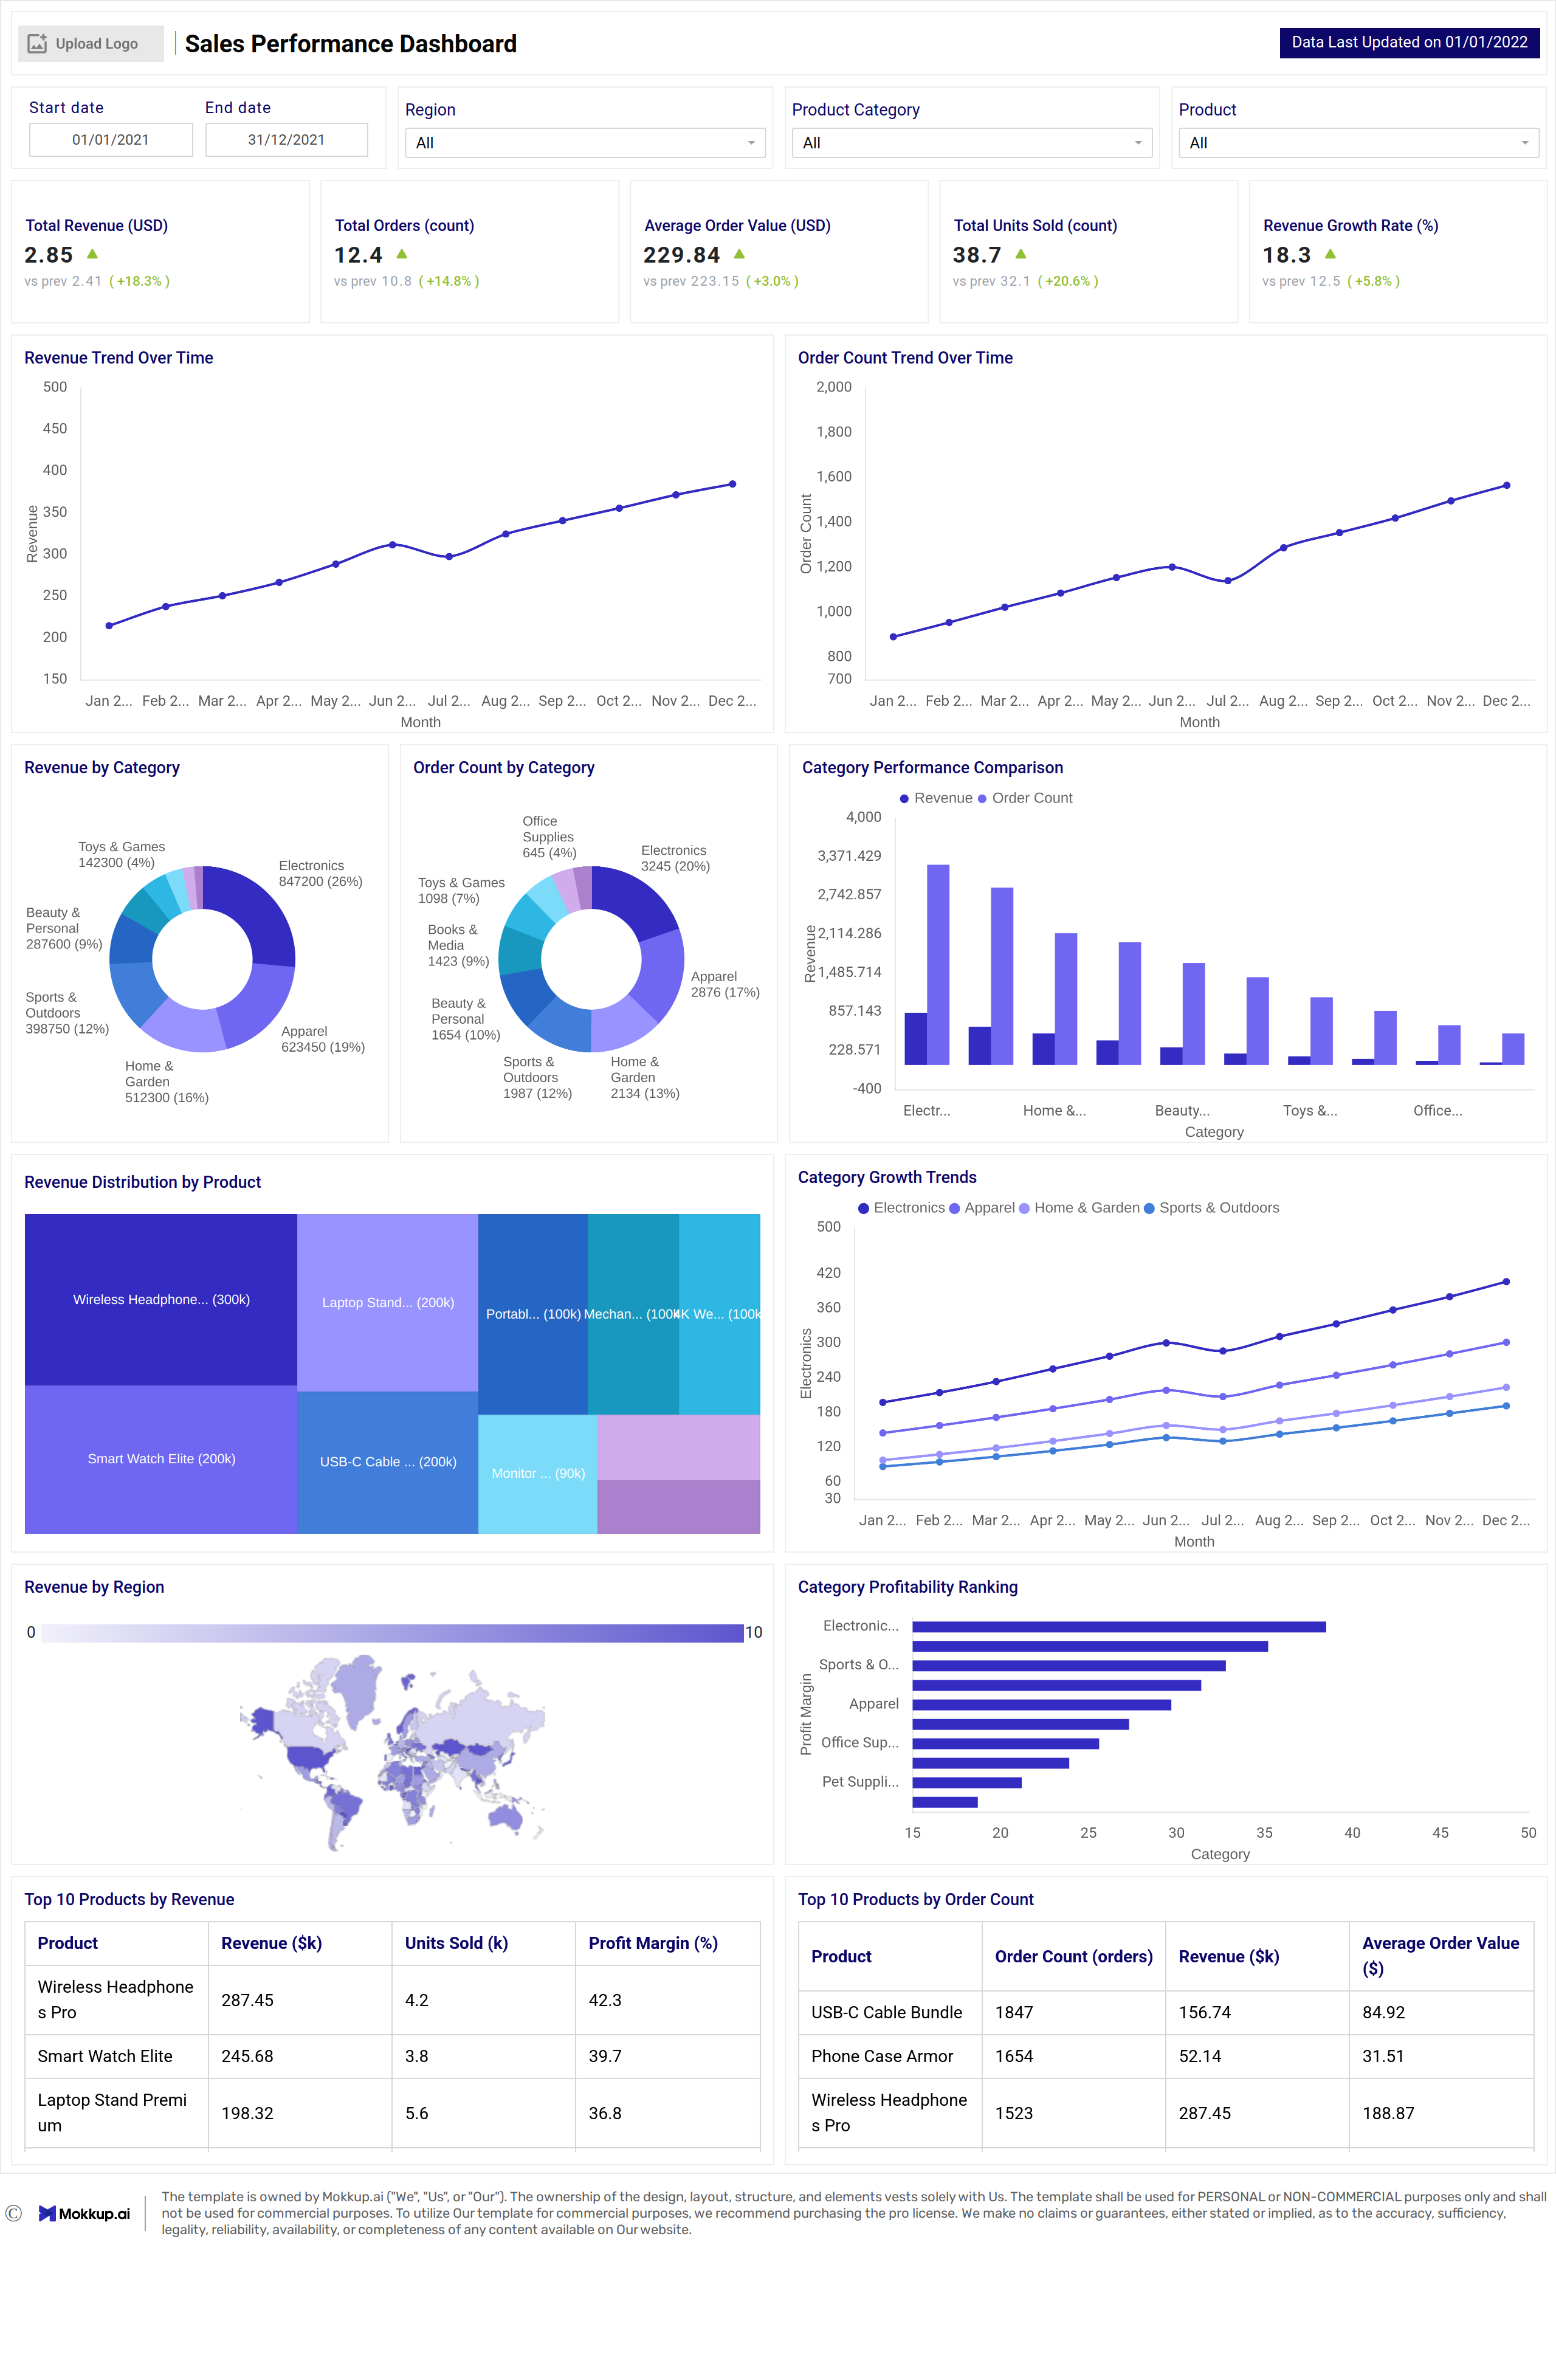

The page's visual inventory and layout, read from the dashboard file:
{"tool":"powerbi","page":{"name":"Comprehensive Sales Performance Analytics Dashboard","canvas":[1280,1541],"ordinal":0},"visuals":[{"type":"group","id":"g1","title":"Group 1","box":[7,7,1266,55],"z":0},{"type":"shape","box":[7,7,1266,55],"z":0,"group":"g1"},{"type":"shape","box":[953.5,19,316.5,30],"z":0,"group":"g17"},{"type":"shape","box":[7,69,311.2,70],"z":0,"group":"g16"},{"type":"shape","box":[325.2,69,311.2,70],"z":0,"group":"g15"},{"type":"shape","box":[643.5,69,311.2,70],"z":0,"group":"g14"},{"type":"shape","box":[961.8,69,311.2,70],"z":0,"group":"g13"},{"type":"shape","title":"null","box":[9,71,57.5,22],"z":0,"group":"g18"},{"type":"shape","box":[7,146,417.3,120],"z":0,"group":"g12"},{"type":"shape","box":[431.3,146,417.3,120],"z":0,"group":"g11"},{"type":"shape","box":[855.6,146,417.4,120],"z":0,"group":"g10"},{"type":"shape","box":[7,273,629.5,330],"z":0,"group":"g9"},{"type":"shape","box":[643.5,273,629.5,330],"z":0,"group":"g8"},{"type":"shape","box":[7,610,313,330],"z":0,"group":"g7"},{"type":"shape","box":[327,610,313,330],"z":0,"group":"g6"},{"type":"shape","box":[647,610,626,330],"z":0,"group":"g5"},{"type":"shape","box":[7,947,629.5,250],"z":0,"group":"g4"},{"type":"shape","box":[643.5,947,629.5,250],"z":0,"group":"g3"},{"type":"shape","box":[7,1204,1266,330],"z":0,"group":"g2"},{"type":"shape","title":"null","box":[327.2,72,309.2,20],"z":10,"group":"g19"},{"type":"shape","title":"null","box":[645.5,72,309.2,20],"z":10,"group":"g20"},{"type":"shape","title":"null","box":[963.8,72,309.2,20],"z":10,"group":"g21"},{"type":"group","id":"g2","title":"Group 1","box":[7,1204,1266,330],"z":50},{"type":"group","id":"g3","title":"Group 1","box":[643.5,947,629.5,250],"z":100},{"type":"group","id":"g4","title":"Group 1","box":[7,947,629.5,250],"z":150},{"type":"group","id":"g5","title":"Group 1","box":[647,610,626,330],"z":200},{"type":"group","id":"g6","title":"Group 1","box":[327,610,313,330],"z":250},{"type":"group","id":"g7","title":"Group 1","box":[7,610,313,330],"z":300},{"type":"group","id":"g8","title":"Group 1","box":[643.5,273,629.5,330],"z":350},{"type":"group","id":"g9","title":"Group 1","box":[7,273,629.5,330],"z":400},{"type":"group","id":"g10","title":"Group 1","box":[855.6,146,417.4,120],"z":450},{"type":"group","id":"g11","title":"Group 1","box":[431.3,146,417.3,120],"z":500},{"type":"group","id":"g12","title":"Group 1","box":[7,146,417.3,120],"z":550},{"type":"group","id":"g13","title":"Group 1","box":[961.8,69,311.2,70],"z":600},{"type":"slicer","fields":{"Values":["Product7.column"]},"box":[963.8,92,309.2,29],"z":602,"group":"g21"},{"type":"group","id":"g14","title":"Group 1","box":[643.5,69,311.2,70],"z":650},{"type":"slicer","fields":{"Values":["Geographic region2.column"]},"box":[645.5,92,309.2,29],"z":652,"group":"g20"},{"type":"group","id":"g15","title":"Group 1","box":[325.2,69,311.2,70],"z":700},{"type":"slicer","fields":{"Values":["Profit by category.piechart"]},"box":[327.2,92,309.2,29],"z":702,"group":"g19"},{"type":"group","id":"g16","title":"Group 1","box":[7,69,311.2,70],"z":750},{"type":"group","id":"g17","title":"Group 1","box":[7,19,1266,30],"z":1000,"group":"g1"},{"type":"shape","box":[7,19,949.5,30],"z":1000,"group":"g17"},{"type":"group","id":"g18","title":"Group 1","box":[8,70,309.2,70],"z":1000,"group":"g16"},{"type":"shape","title":"null","box":[66.5,71,251.8,22],"z":1000,"group":"g18"},{"type":"group","id":"g19","title":"Group 1","box":[326.2,71,309.2,65],"z":1000,"group":"g15"},{"type":"group","id":"g20","title":"Group 1","box":[644.5,71,309.2,65],"z":1000,"group":"g14"},{"type":"group","id":"g21","title":"Group 1","box":[962.8,71,309.2,65],"z":1000,"group":"g13"},{"type":"kpi","title":"Total Revenue (USD)","fields":{"TrendLine":["dim date.Month"],"Indicator":["dim measure.total revenue (usd) current year"],"Goal":["dim measure.total revenue (usd) vs prev year"]},"box":[7,146,415.3,117],"z":1000,"group":"g12"},{"type":"kpi","title":"Total Profit (USD)","fields":{"TrendLine":["dim date.Month"],"Indicator":["dim measure.total profit (usd) current year"],"Goal":["dim measure.total profit (usd) vs prev year"]},"box":[431.3,146,415.3,117],"z":1000,"group":"g11"},{"type":"kpi","title":"Profit Margin (%)","fields":{"TrendLine":["dim date.Month"],"Indicator":["dim measure.profit margin (%) current year"],"Goal":["dim measure.profit margin (%) vs prev year"]},"box":[855.6,146,415.4,117],"z":1000,"group":"g10"},{"type":"shape","box":[8,274,627.5,30],"z":1000,"group":"g9"},{"type":"shape","box":[644.5,274,627.5,30],"z":1000,"group":"g8"},{"type":"shape","box":[8,611,311,30],"z":1000,"group":"g7"},{"type":"shape","box":[328,611,311,30],"z":1000,"group":"g6"},{"type":"shape","box":[648,611,624,30],"z":1000,"group":"g5"},{"type":"shape","box":[8,948,627.5,30],"z":1000,"group":"g4"},{"type":"shape","box":[644.5,948,627.5,30],"z":1000,"group":"g3"},{"type":"shape","box":[8,1205,1264,30],"z":1000,"group":"g2"},{"type":"slicer","fields":{"Values":["dim date.Date"]},"box":[9,93,309.2,45],"z":2000,"group":"g18"},{"type":"areaChart","title":"Title goes here","fields":{"Category":["Month93.linechart"],"Y":["Sum(Fact.revenue_30)"]},"box":[8,304,627.5,297],"z":2000,"group":"g9"},{"type":"lineChart","title":"Title goes here","fields":{"Category":["Month93.linechart"],"Y":["Sum(Fact.profit_margin_78)"]},"box":[644.5,304,627.5,297],"z":2000,"group":"g8"},{"type":"donutChart","title":"Title goes here","fields":{"Category":["Profit by category.piechart"],"Y":["Sum(Fact.revenue_by_category_fact_0)"]},"box":[8,641,311,297],"z":2000,"group":"g7"},{"type":"donutChart","title":"Title goes here","fields":{"Category":["Profit by category.piechart"],"Y":["Sum(Fact.profit_by_category_fact)"]},"box":[328,641,311,297],"z":2000,"group":"g6"},{"type":"clusteredBarChart","title":"Title goes here","fields":{"Category":["Product7.column"],"Y":["Sum(Fact.revenue_242)"]},"box":[648,641,624,297],"z":2000,"group":"g5"},{"type":"azureMap","title":"Title goes here","fields":{"Category":["Revenue by geographic region.province"],"Y":["Min(Revenue by geographic region.latitude)"],"X":["Min(Revenue by geographic region.longitude)"]},"box":[8,978,627.5,217],"z":2000,"group":"g4"},{"type":"clusteredBarChart","title":"Title goes here","fields":{"Category":["Product7.column"],"Y":["Sum(Fact.profit_241)"]},"box":[644.5,978,627.5,217],"z":2000,"group":"g3"},{"type":"clusteredColumnChart","title":"Title goes here","fields":{"Category":["Geographic region2.column"],"Y":["Sum(Fact.profit)"]},"box":[8,1235,1264,297],"z":2000,"group":"g2"}]}

Visuals, with their boxes on the page's 1280x1541 design canvas (x1, y1, x2, y2). These are canvas units, not pixel positions in the 1556x2380 screenshot, which may show the page scaled, cropped or inside an application window:
"Group 1" group: 7/7/1273/62
shape: 7/7/1273/62
shape: 954/19/1270/49
shape: 7/69/318/139
shape: 325/69/636/139
shape: 644/69/955/139
shape: 962/69/1273/139
"null" shape: 9/71/66/93
shape: 7/146/424/266
shape: 431/146/849/266
shape: 856/146/1273/266
shape: 7/273/636/603
shape: 644/273/1273/603
shape: 7/610/320/940
shape: 327/610/640/940
shape: 647/610/1273/940
shape: 7/947/636/1197
shape: 644/947/1273/1197
shape: 7/1204/1273/1534
"null" shape: 327/72/636/92
"null" shape: 646/72/955/92
"null" shape: 964/72/1273/92
"Group 1" group: 7/1204/1273/1534
"Group 1" group: 644/947/1273/1197
"Group 1" group: 7/947/636/1197
"Group 1" group: 647/610/1273/940
"Group 1" group: 327/610/640/940
"Group 1" group: 7/610/320/940
"Group 1" group: 644/273/1273/603
"Group 1" group: 7/273/636/603
"Group 1" group: 856/146/1273/266
"Group 1" group: 431/146/849/266
"Group 1" group: 7/146/424/266
"Group 1" group: 962/69/1273/139
slicer - Product7.column: 964/92/1273/121
"Group 1" group: 644/69/955/139
slicer - Geographic region2.column: 646/92/955/121
"Group 1" group: 325/69/636/139
slicer - Profit by category.piechart: 327/92/636/121
"Group 1" group: 7/69/318/139
"Group 1" group: 7/19/1273/49
shape: 7/19/956/49
"Group 1" group: 8/70/317/140
"null" shape: 66/71/318/93
"Group 1" group: 326/71/635/136
"Group 1" group: 644/71/954/136
"Group 1" group: 963/71/1272/136
"Total Revenue (USD)" kpi: 7/146/422/263
"Total Profit (USD)" kpi: 431/146/847/263
"Profit Margin (%)" kpi: 856/146/1271/263
shape: 8/274/636/304
shape: 644/274/1272/304
shape: 8/611/319/641
shape: 328/611/639/641
shape: 648/611/1272/641
shape: 8/948/636/978
shape: 644/948/1272/978
shape: 8/1205/1272/1235
slicer - dim date.Date: 9/93/318/138
"Title goes here" areaChart: 8/304/636/601
"Title goes here" lineChart: 644/304/1272/601
"Title goes here" donutChart: 8/641/319/938
"Title goes here" donutChart: 328/641/639/938
"Title goes here" clusteredBarChart: 648/641/1272/938
"Title goes here" azureMap: 8/978/636/1195
"Title goes here" clusteredBarChart: 644/978/1272/1195
"Title goes here" clusteredColumnChart: 8/1235/1272/1532
